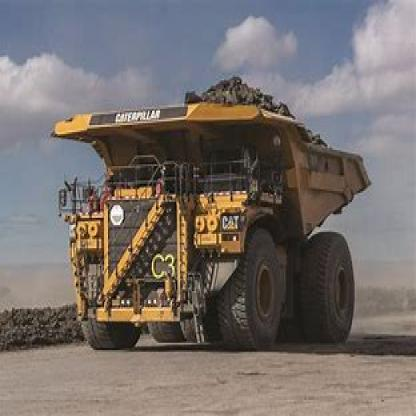dump_truck: (48, 77, 372, 346)
